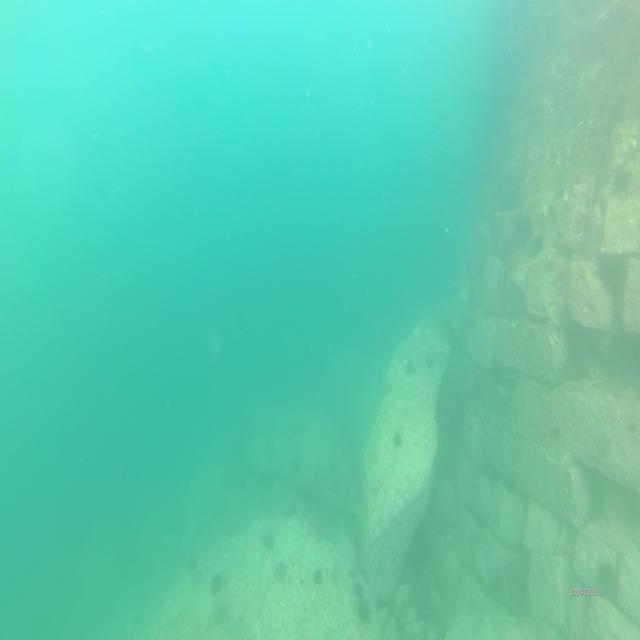echinus: (595, 556, 619, 604), (501, 462, 520, 495), (356, 597, 373, 627), (209, 572, 227, 597), (273, 559, 289, 585), (402, 352, 416, 380), (391, 427, 406, 449), (353, 581, 369, 599), (380, 379, 394, 397), (263, 530, 276, 549), (426, 352, 438, 372), (312, 566, 324, 586), (188, 556, 199, 573)
